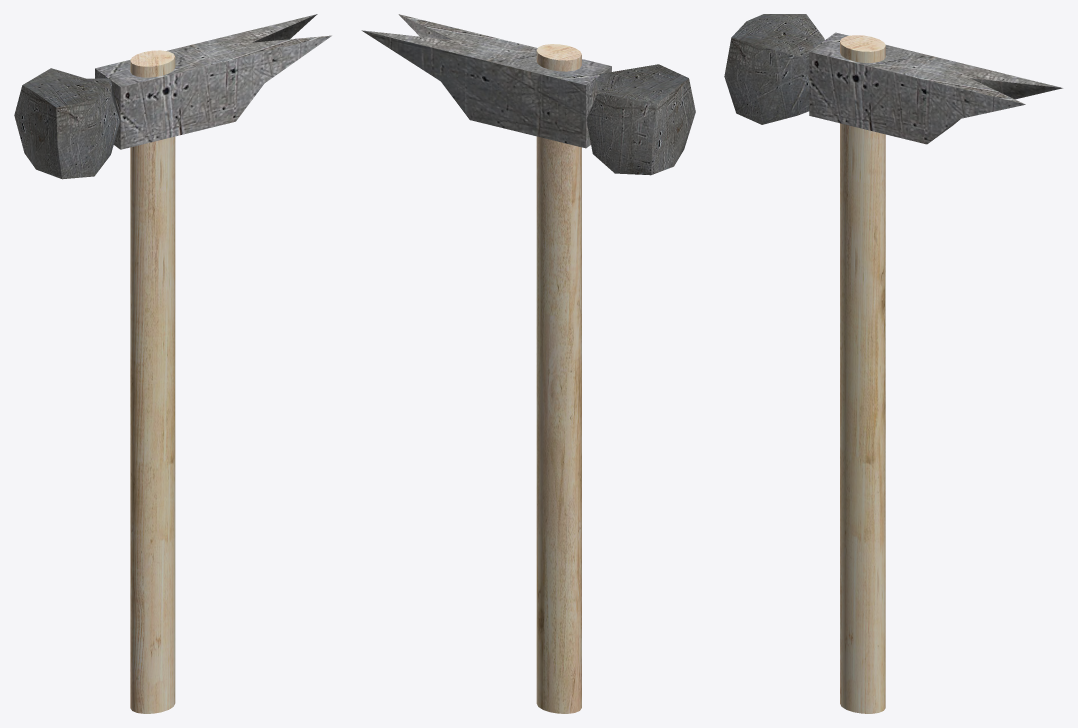
Rendered from Martillo.FBX.
3 renders of one model, left to right at view 1: azimuth 30°, elevation 25°; view 2: azimuth 150°, elevation 25°; view 3: azimuth 330°, elevation 25°, orthographic. The views are drawn at different scales.
Visible parts, largest first — view 1: Box002; view 2: Box002; view 3: Box002.
Part boxes in pixels (<box>): Box002: <box>14,14,331,713</box>; Box002: <box>361,14,695,713</box>; Box002: <box>724,14,1062,713</box>.
Bounding box in the file's own units: 16.62 × 34.73 × 4.22.
